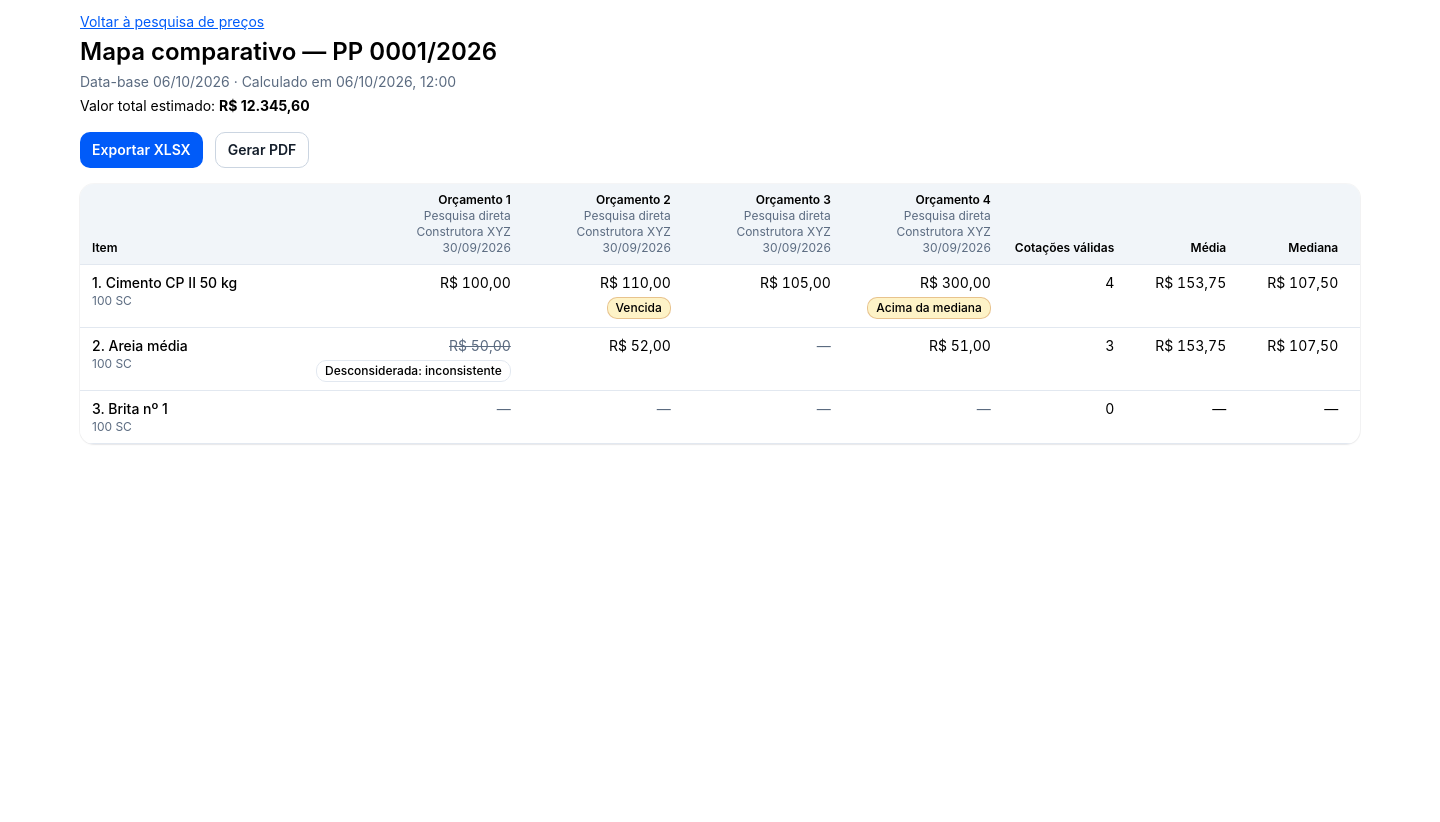
Test: SCR-010 — Mapa comparativo (US-031) › [Falha de banco] 503 mantém o mapa e oferece "Tentar novamente" com o código do erro
Click the button "Exportar XLSX".
click(141, 150)  # box x1=80 y1=132 x2=203 y2=168
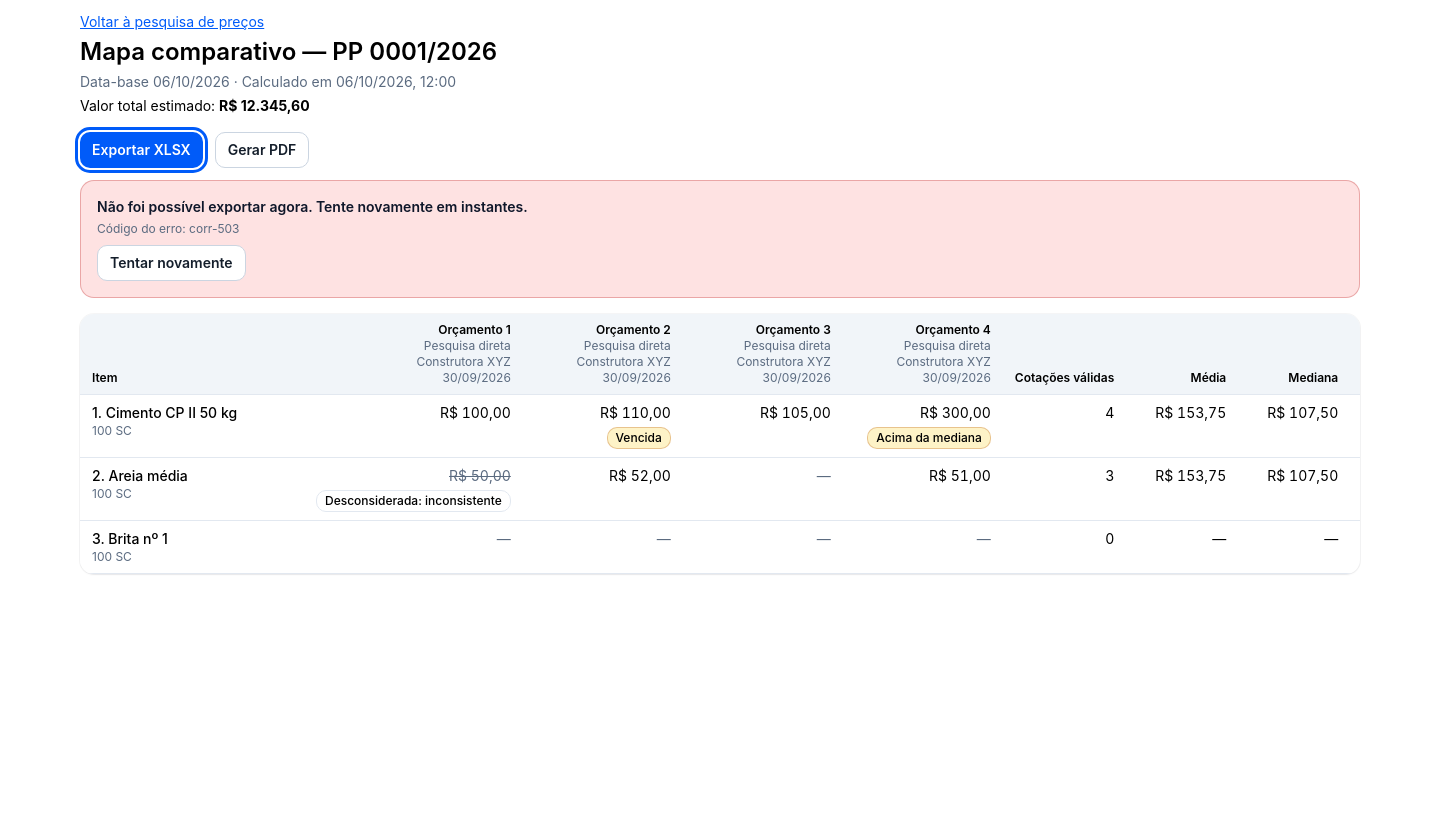
Check: the text "Não foi possível exportar agora. Tente novamente em instantes." is shown, box x1=97 y1=198 x2=528 y2=215
Check: the text "Código do erro: corr-503" is shown, box x1=97 y1=221 x2=240 y2=236
Click the button "Tentar novamente".
click(171, 263)  # box x1=97 y1=245 x2=246 y2=281
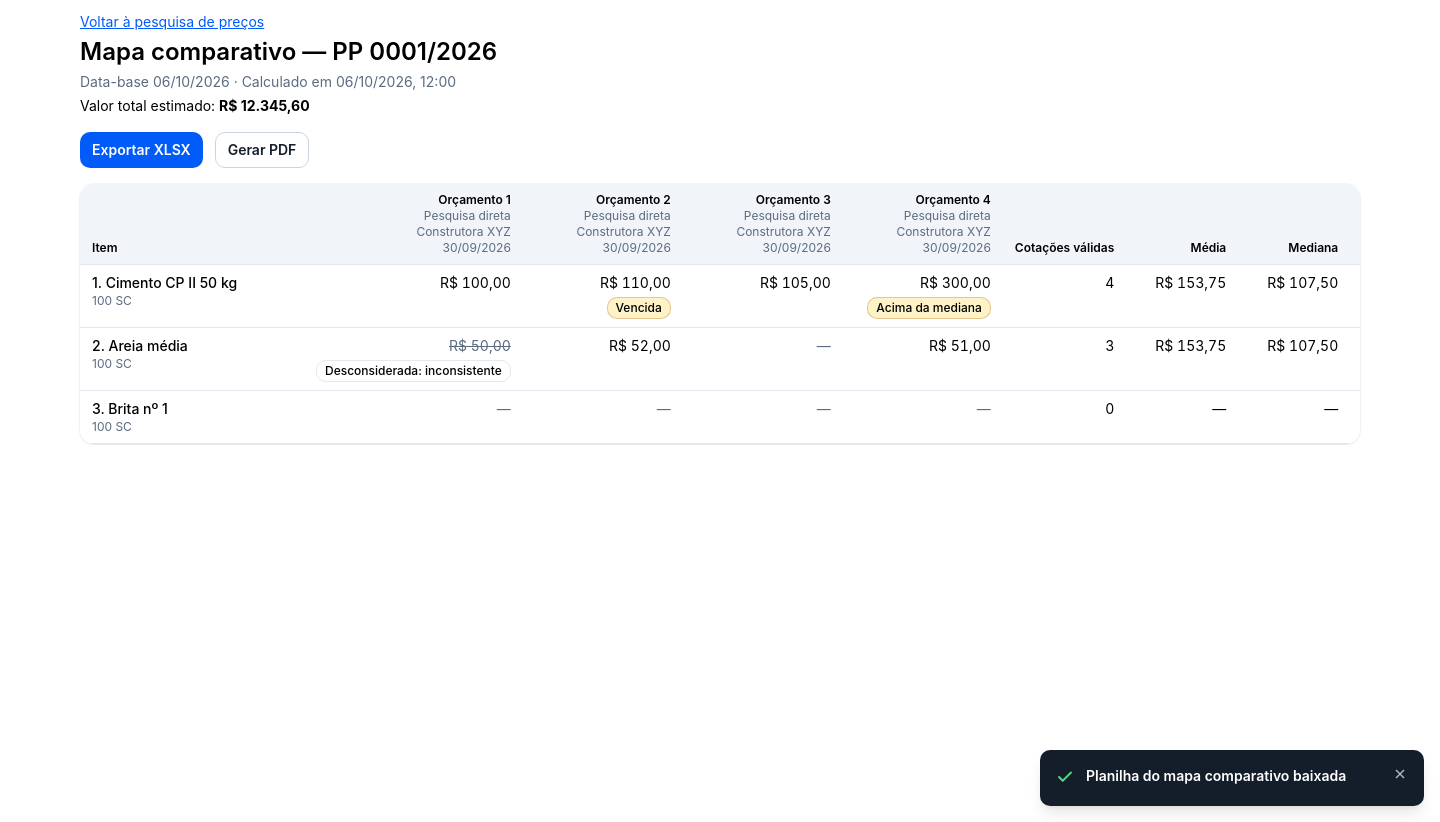
Check: the text "Planilha do mapa comparativo baixada" is shown, box x1=1086 y1=766 x2=1376 y2=786
